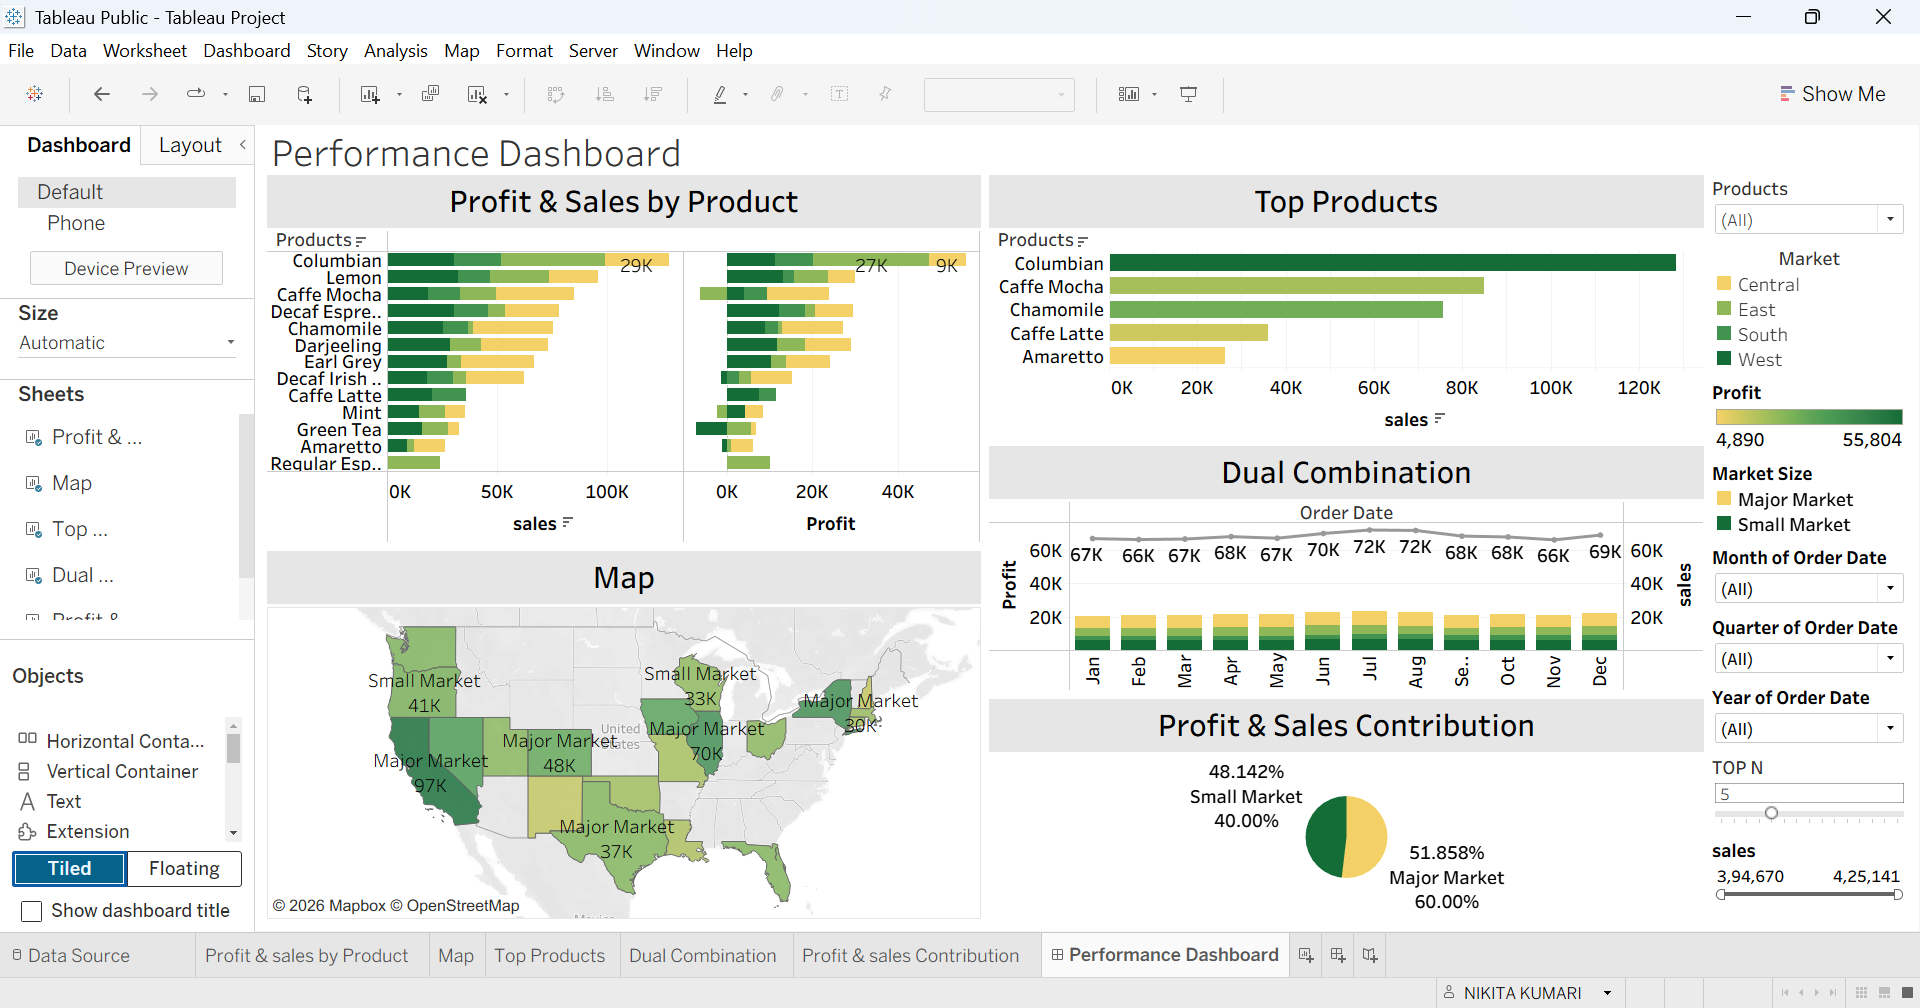

Layout of this report page (visuals, bound fields, positions):
{"tool":"tableau","page":{"name":"Performance Dashboard","canvas":[1000,1000],"units":"permille","ordinal":0},"visuals":[{"type":"title","box":[5,9.9,990,47.1]},{"type":"worksheet","title":"Profit & sales by Product","mark":"Automatic","rows":["Product"],"cols":["Sales","Profit"],"box":[5,57.1,431.7,466.5]},{"type":"worksheet","title":"Top Products","mark":"Automatic","rows":["Product"],"cols":["Sales"],"box":[436.7,57.1,431.8,336.5]},{"type":"filter","title":"Profit & sales by Product","param":"[federated.1yqlomr1kkcfax18jnthw0k6m6jf].[none:Product:nk]","box":[868.5,57.1,126.6,86.9]},{"type":"legend","title":"Profit & sales by Product","param":"[federated.1yqlomr1kkcfax18jnthw0k6m6jf].[none:Market:nk]","box":[868.5,143.9,126.6,166.3]},{"type":"legend","title":"Top Products","param":"[federated.1yqlomr1kkcfax18jnthw0k6m6jf].[sum:Profit:qk]","box":[868.5,310.2,126.6,100.5]},{"type":"worksheet","title":"Dual Combination","mark":"Bar","rows":["Profit","Sales"],"cols":["Order Date"],"box":[436.7,393.6,431.8,313.6]},{"type":"legend","title":"Profit & sales Contribution","param":"[federated.1yqlomr1kkcfax18jnthw0k6m6jf].[none:Market Size:nk]","box":[868.5,410.7,126.6,104.2]},{"type":"filter","title":"Profit & sales Contribution","param":"[federated.1yqlomr1kkcfax18jnthw0k6m6jf].[mn:Order Date:ok]","box":[868.5,514.9,126.6,86.9]},{"type":"worksheet","title":"Map","mark":"Automatic","box":[5,523.5,431.7,466.5]},{"type":"filter","title":"Profit & sales Contribution","param":"[federated.1yqlomr1kkcfax18jnthw0k6m6jf].[qr:Order Date:ok]","box":[868.5,601.8,126.6,86.9]},{"type":"filter","title":"Profit & sales Contribution","param":"[federated.1yqlomr1kkcfax18jnthw0k6m6jf].[yr:Order Date:ok]","box":[868.5,688.6,126.6,86.9]},{"type":"worksheet","title":"Profit & sales Contribution","mark":"Pie","box":[436.7,707.2,431.8,282.9]},{"type":"parameter","param":"[Parameters].[Parameter 0646514264055808]","box":[868.5,775.5,126.6,103]},{"type":"filter","title":"Profit & sales Contribution","param":"[federated.1yqlomr1kkcfax18jnthw0k6m6jf].[sum:Sales:qk]","box":[868.5,878.4,126.6,95.5]}]}

Visuals, with their boxes on the dashboard's canvas, which has no fixed pixel size, in thousandths of its width and height (x1, y1, x2, y2). These are canvas units, not pixel positions in the 1920x1008 screenshot, which may show the page scaled, cropped or inside an application window:
title: x1=5, y1=10, x2=995, y2=57
"Profit & sales by Product" worksheet: x1=5, y1=57, x2=437, y2=524
"Top Products" worksheet: x1=437, y1=57, x2=868, y2=394
"Profit & sales by Product" filter: x1=868, y1=57, x2=995, y2=144
"Profit & sales by Product" legend: x1=868, y1=144, x2=995, y2=310
"Top Products" legend: x1=868, y1=310, x2=995, y2=411
"Dual Combination" worksheet (Bar marks): x1=437, y1=394, x2=868, y2=707
"Profit & sales Contribution" legend: x1=868, y1=411, x2=995, y2=515
"Profit & sales Contribution" filter: x1=868, y1=515, x2=995, y2=602
"Map" worksheet: x1=5, y1=524, x2=437, y2=990
"Profit & sales Contribution" filter: x1=868, y1=602, x2=995, y2=689
"Profit & sales Contribution" filter: x1=868, y1=689, x2=995, y2=776
"Profit & sales Contribution" worksheet (Pie marks): x1=437, y1=707, x2=868, y2=990
parameter: x1=868, y1=776, x2=995, y2=878
"Profit & sales Contribution" filter: x1=868, y1=878, x2=995, y2=974
